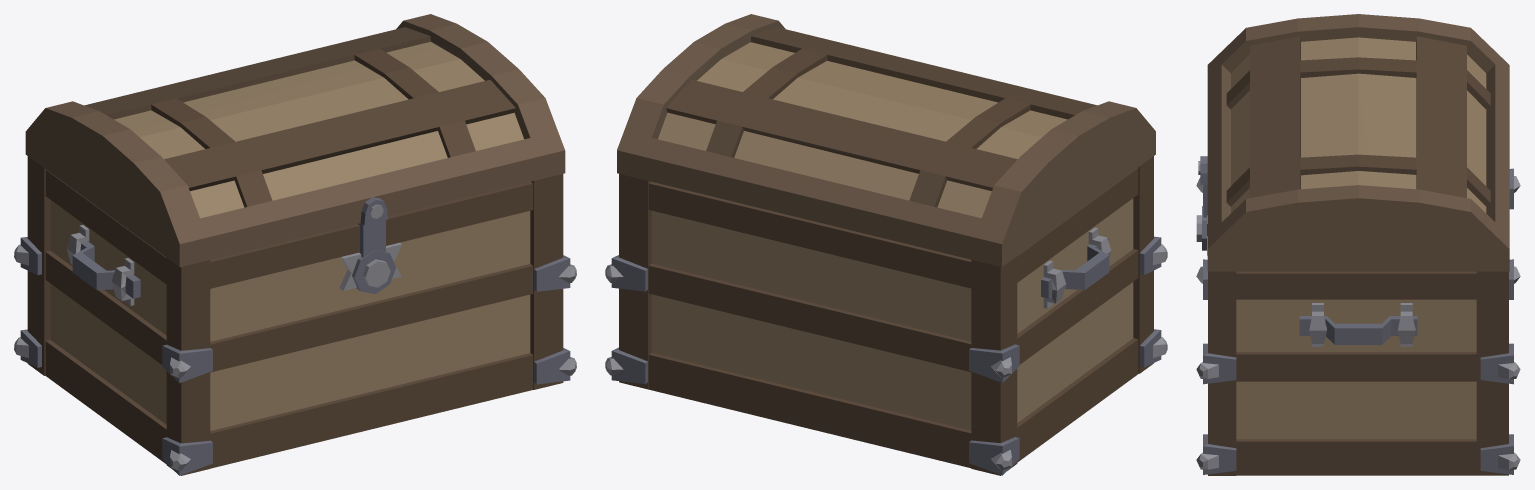
The model's file is _trunk_13.fbx.
The picture shows the model from 3 angles, left to right: view 1: azimuth 30°, elevation 25°; view 2: azimuth 150°, elevation 25°; view 3: azimuth 270°, elevation 25°; orthographic projection. The views are drawn at different scales.
Parts seen in each view (by area): view 1: trunk_13; view 2: trunk_13; view 3: trunk_13.
Part boxes in pixels (bbox=[...]): trunk_13: bbox=[14, 14, 576, 475]; trunk_13: bbox=[605, 14, 1167, 475]; trunk_13: bbox=[1196, 14, 1520, 475].
Size of the model in its own units: 94.34 by 60.9 by 64.14.
